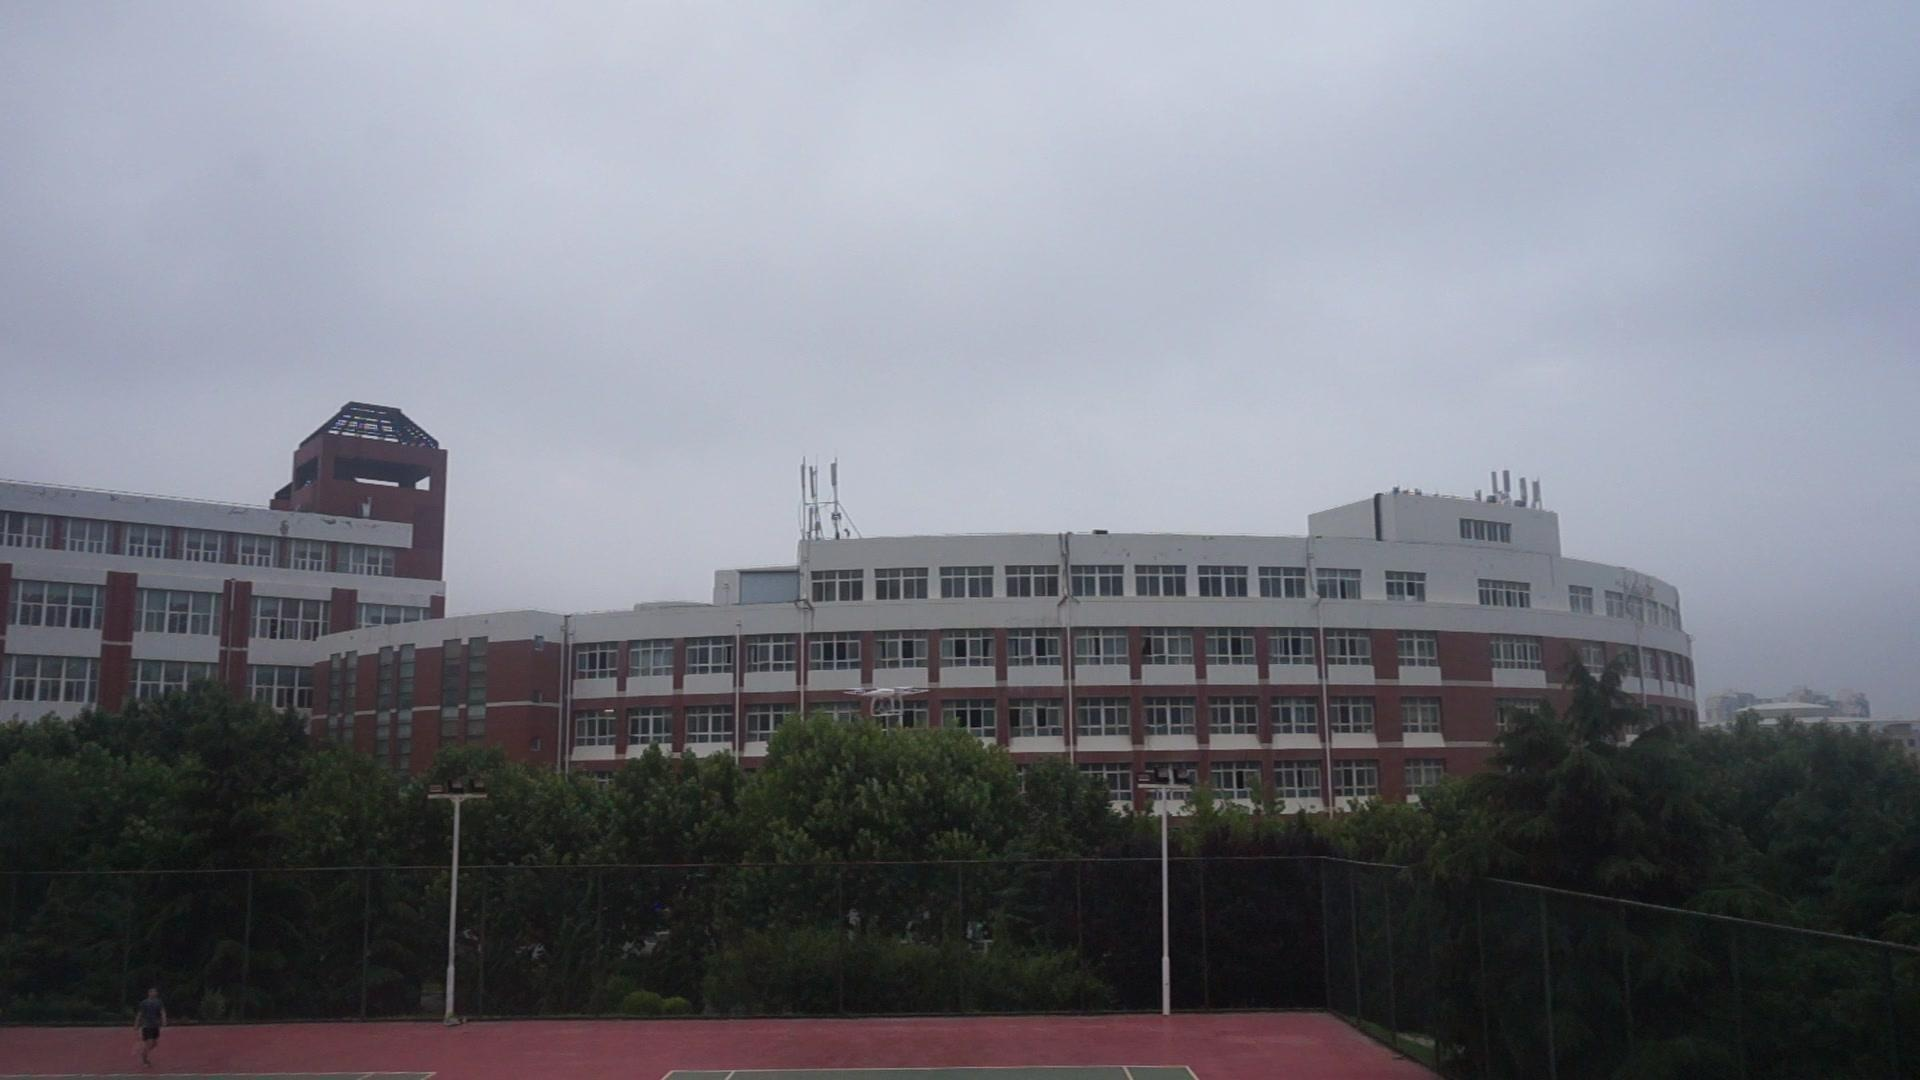UAV: (844, 688, 931, 717)
